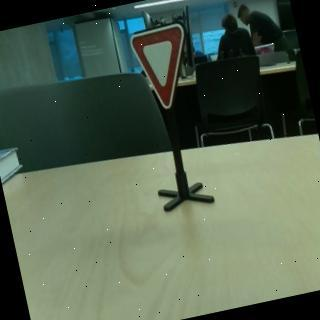sign_yield: (129, 22, 202, 115)
